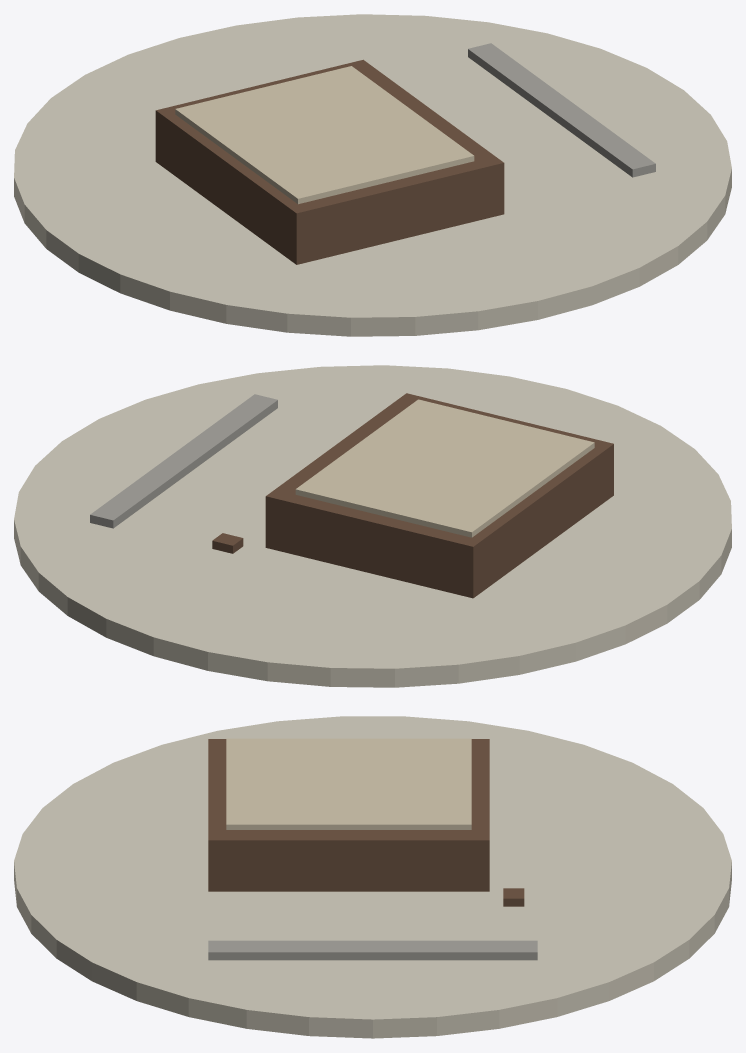
File: breakfast-plate.glb
The picture shows the model from 3 angles, top to bottom: view 1: azimuth 30°, elevation 25°; view 2: azimuth 150°, elevation 25°; view 3: azimuth 270°, elevation 25°; orthographic projection.
Parts seen in each view (by area): view 1: enamel, wood, paper, brushed; view 2: enamel, wood, paper, brushed; view 3: enamel, paper, wood, brushed.
Boxes of the visible parts, x1=… form: enamel: x1=14, y1=14, x2=731, y2=336; wood: x1=155, y1=59, x2=504, y2=264; paper: x1=175, y1=66, x2=474, y2=204; brushed: x1=468, y1=43, x2=655, y2=177; enamel: x1=14, y1=365, x2=731, y2=687; wood: x1=212, y1=393, x2=613, y2=598; paper: x1=295, y1=399, x2=594, y2=537; brushed: x1=90, y1=394, x2=277, y2=528; enamel: x1=14, y1=716, x2=731, y2=1038; paper: x1=226, y1=738, x2=471, y2=829; wood: x1=208, y1=739, x2=524, y2=906; brushed: x1=208, y1=940, x2=537, y2=960.
Size of the model in its own units: 0.2395 by 0.028 by 0.2398.
